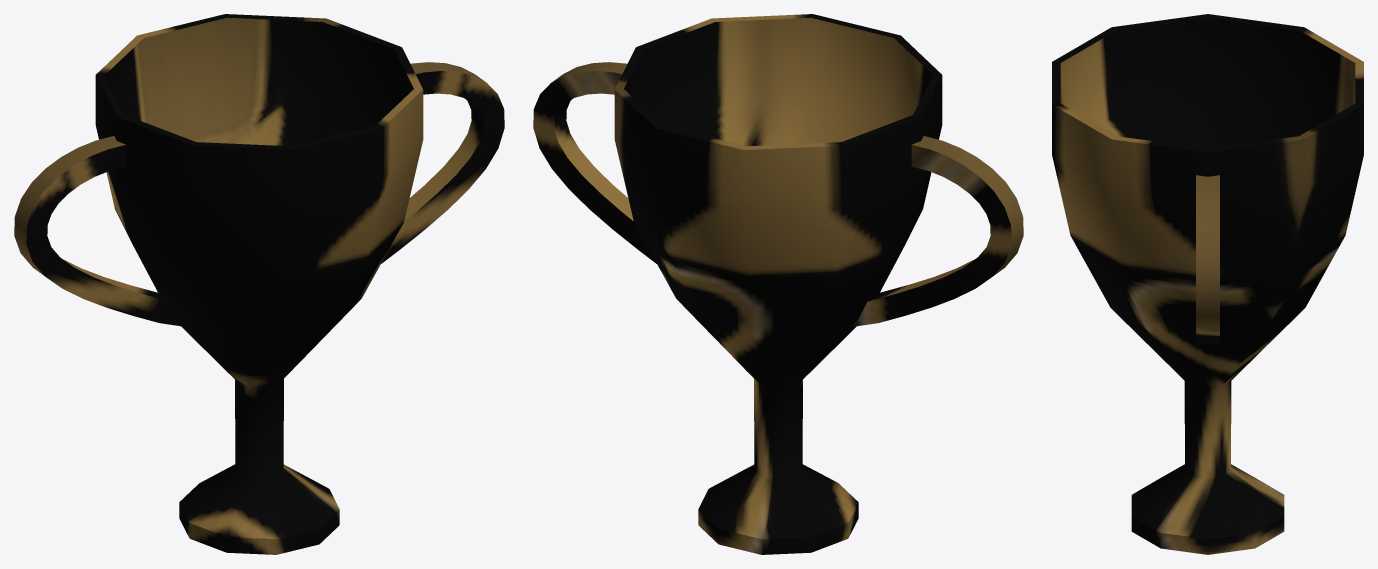
The model's file is Cup_Trophy.FBX.
The picture shows the model from 3 angles, left to right: view 1: azimuth 30°, elevation 25°; view 2: azimuth 150°, elevation 25°; view 3: azimuth 270°, elevation 25°; orthographic projection.
Visible parts, largest first — view 1: Trophy_Base; view 2: Trophy_Base; view 3: Trophy_Base.
Boxes of the visible parts, <box> form: Trophy_Base: <box>14,14,504,554</box>; Trophy_Base: <box>533,14,1023,554</box>; Trophy_Base: <box>1052,14,1363,554</box>.
Bounding box in the file's own units: 24.2 × 21.24 × 13.72.
